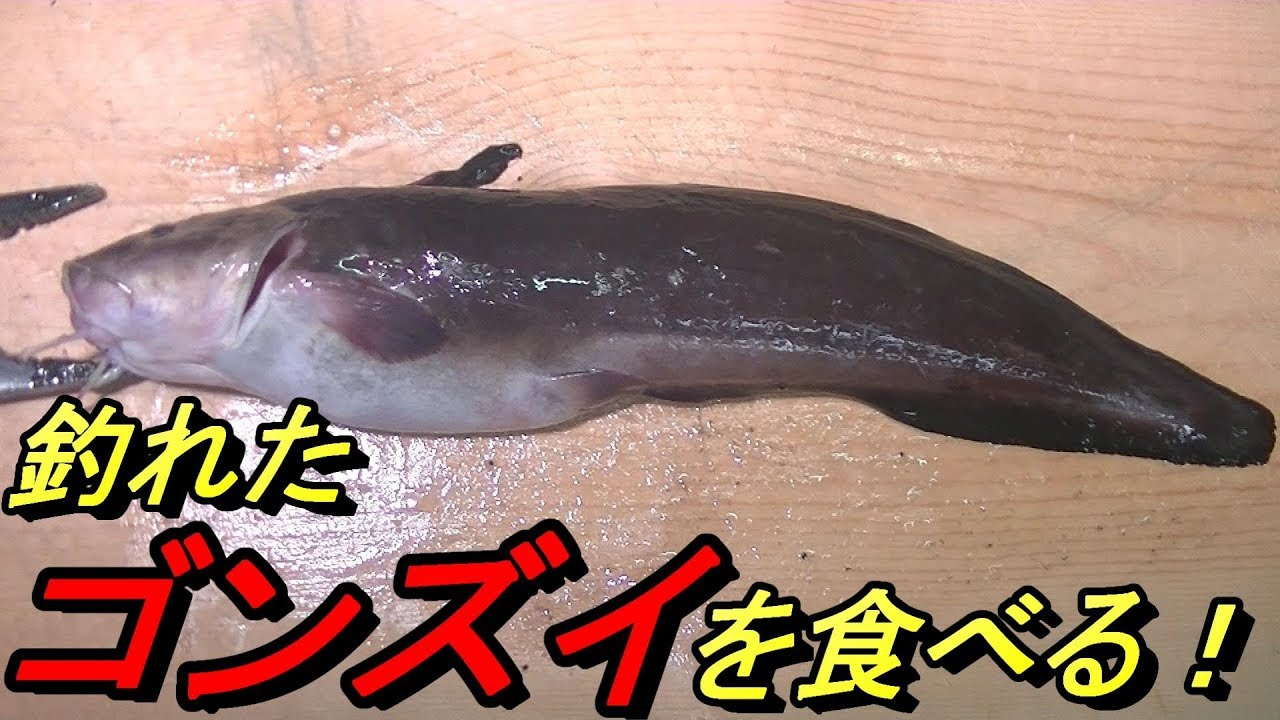gonzui: (59, 181, 1280, 416)
